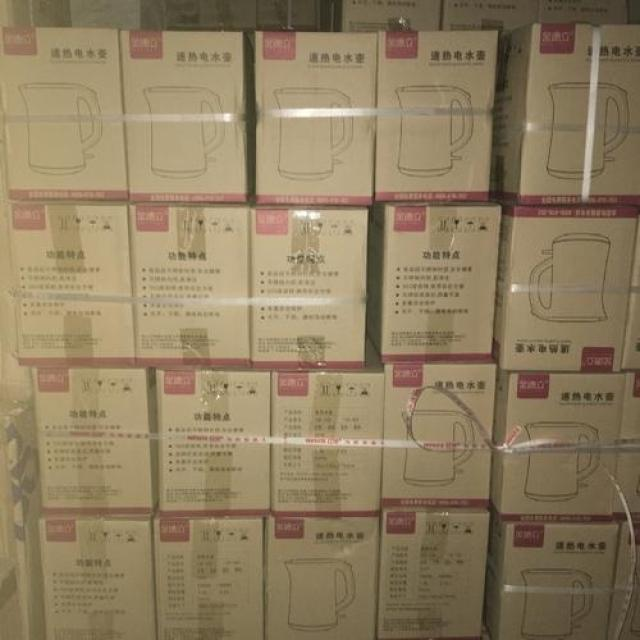box: (490, 22, 639, 206), (494, 202, 639, 371), (120, 26, 255, 201), (365, 201, 504, 367), (488, 359, 626, 522), (267, 328, 385, 517), (371, 30, 500, 202), (253, 32, 378, 208), (2, 26, 127, 201), (7, 201, 138, 365), (129, 203, 251, 369), (248, 201, 367, 368), (30, 366, 159, 515), (480, 505, 618, 637), (154, 365, 270, 516), (378, 363, 496, 507), (39, 506, 155, 639), (376, 507, 490, 639), (151, 507, 264, 637), (264, 518, 382, 636), (0, 402, 52, 636), (1, 101, 30, 403), (612, 369, 639, 520), (321, 1, 443, 30), (608, 518, 637, 637), (442, 1, 536, 36), (72, 0, 165, 30), (623, 203, 639, 373), (162, 0, 258, 27), (0, 557, 29, 638), (533, 1, 630, 22), (0, 1, 73, 28), (257, 1, 322, 27)
